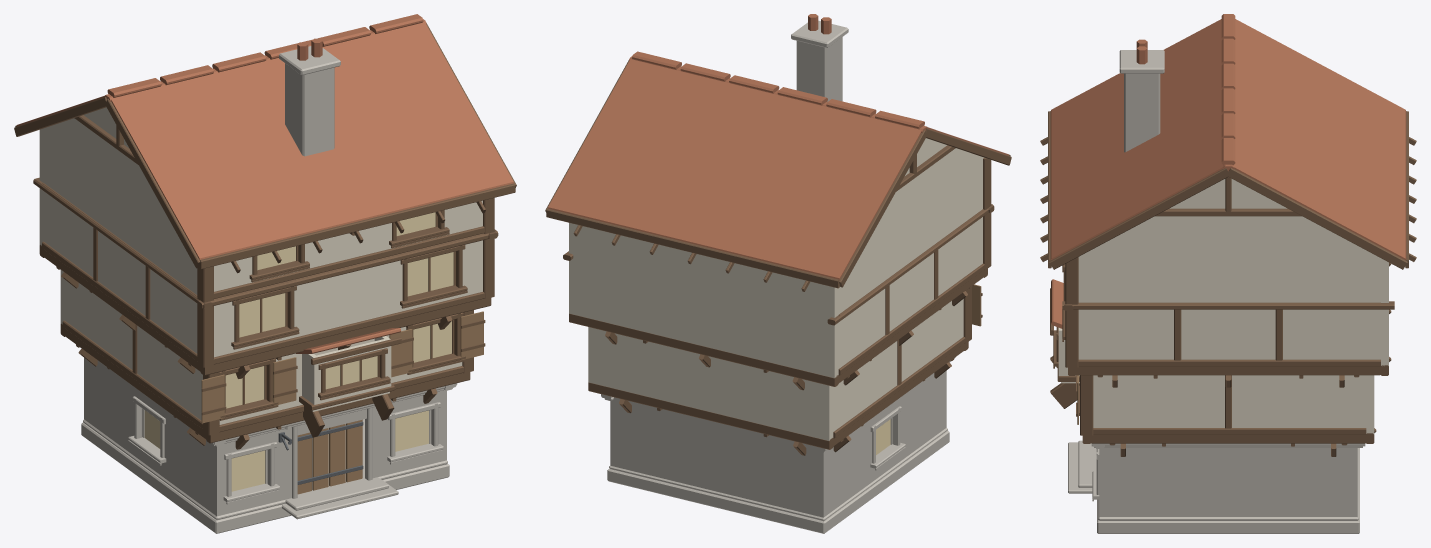
The model's file is house_c.glb.
3 renders of one model, left to right at view 1: azimuth 30°, elevation 25°; view 2: azimuth 150°, elevation 25°; view 3: azimuth 270°, elevation 25°, orthographic. The views are drawn at different scales.
Visible parts, largest first — view 1: house_c; view 2: house_c; view 3: house_c.
Part boxes in pixels (x1,y1,x2,y2): house_c: [14, 14, 516, 533]; house_c: [545, 14, 1011, 533]; house_c: [1040, 14, 1416, 533].
Bounding box in the file's own units: 13.25 × 17.74 × 13.94.
